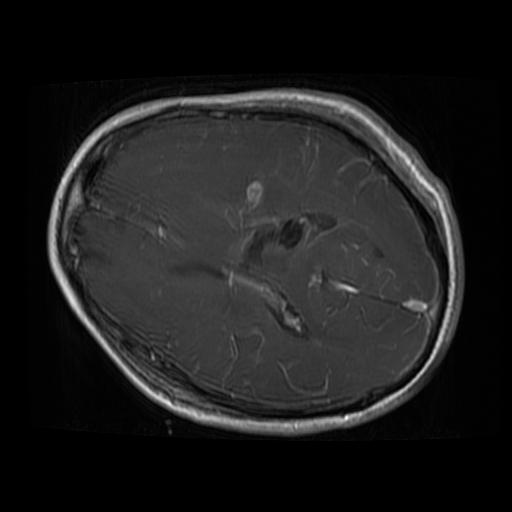glioma: (242, 214, 338, 269)
